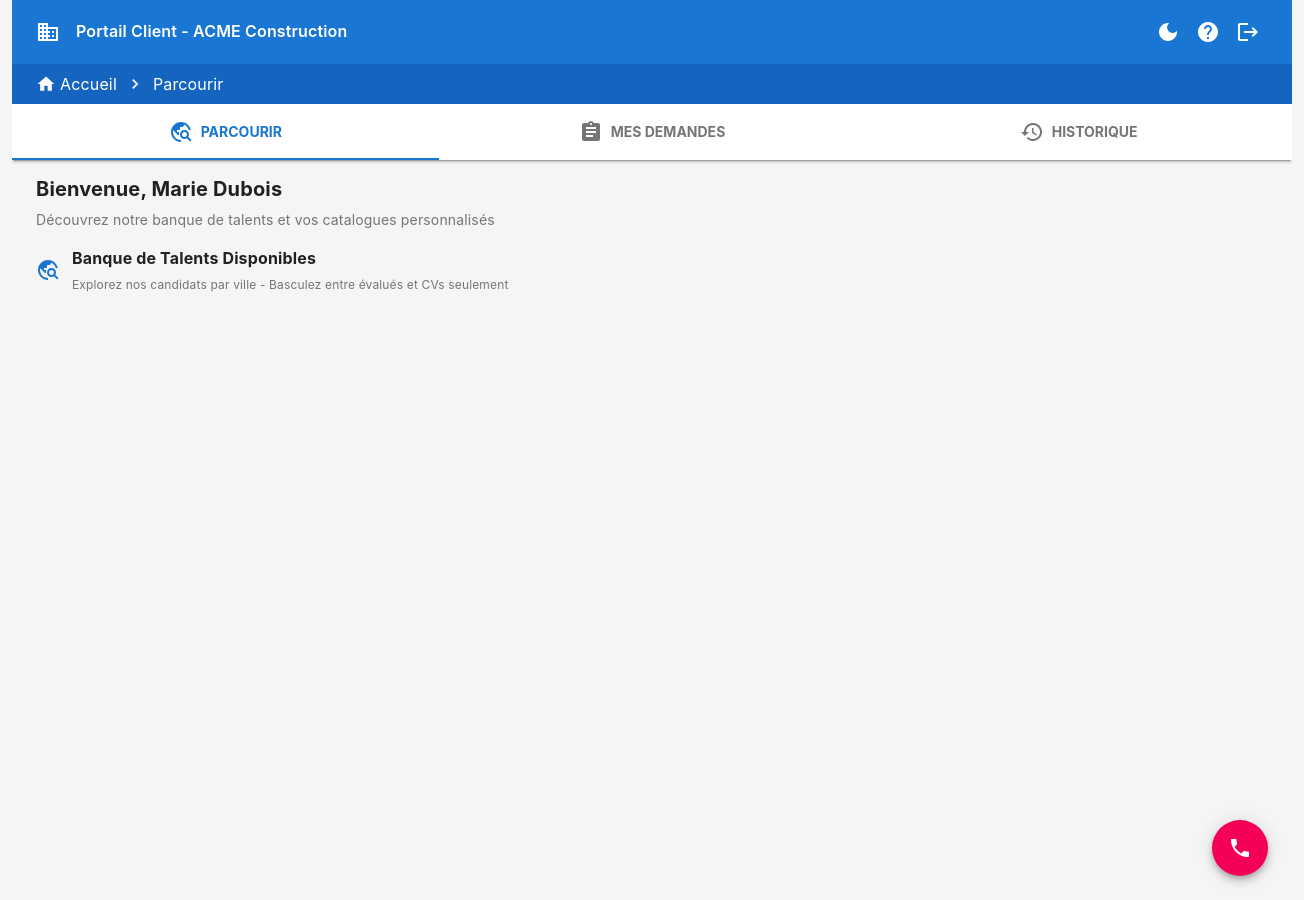
ClientDashboardPage › affiche un état vide quand aucun catalogue n'est disponible
The image size is (1304, 900).
Step 1. Click the tab "Mes Demandes" → (652, 132), box 439,104 -> 865,160
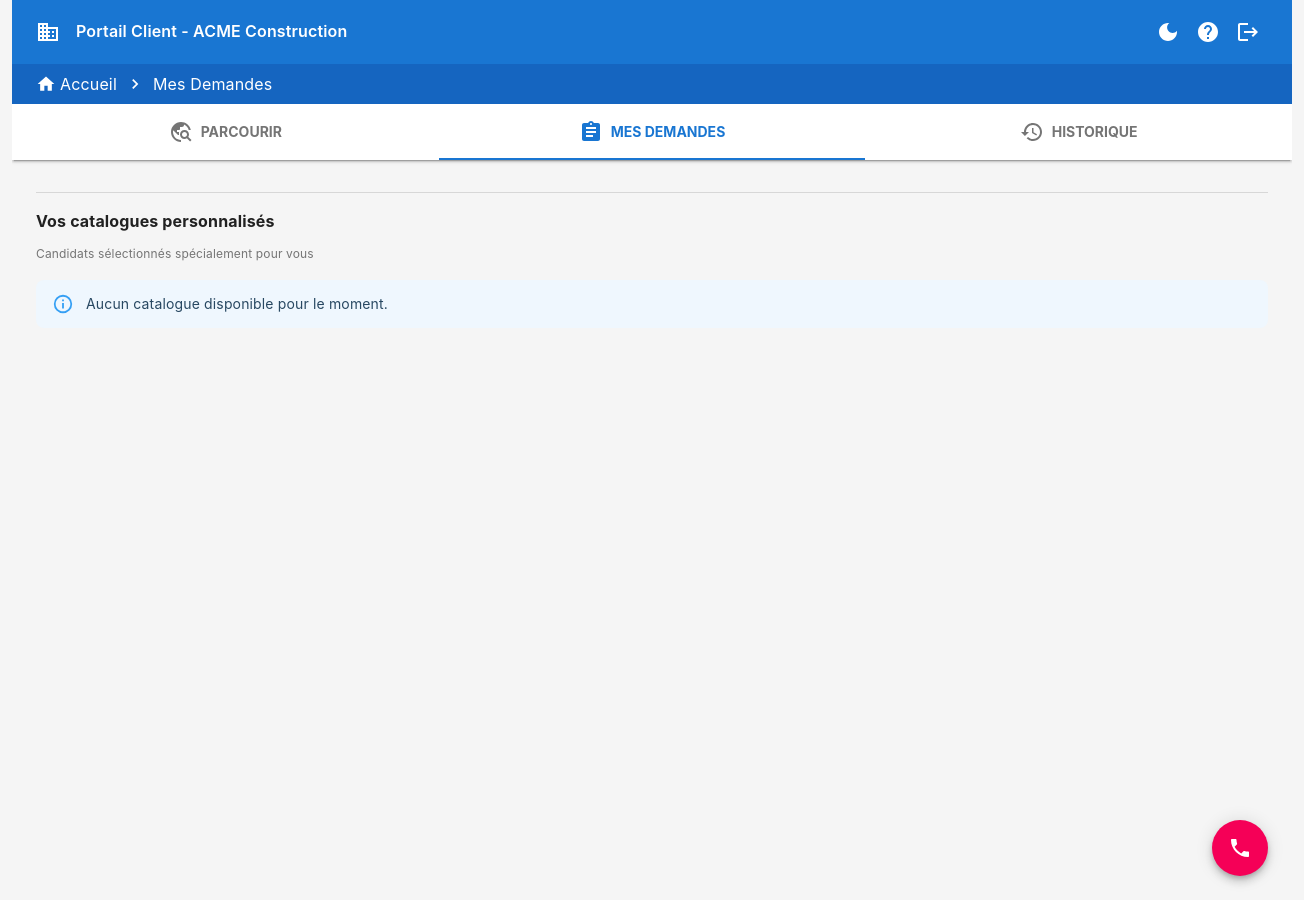
Expected: the text "Aucun catalogue disponible pour le moment." is shown, 86,295 -> 388,312
